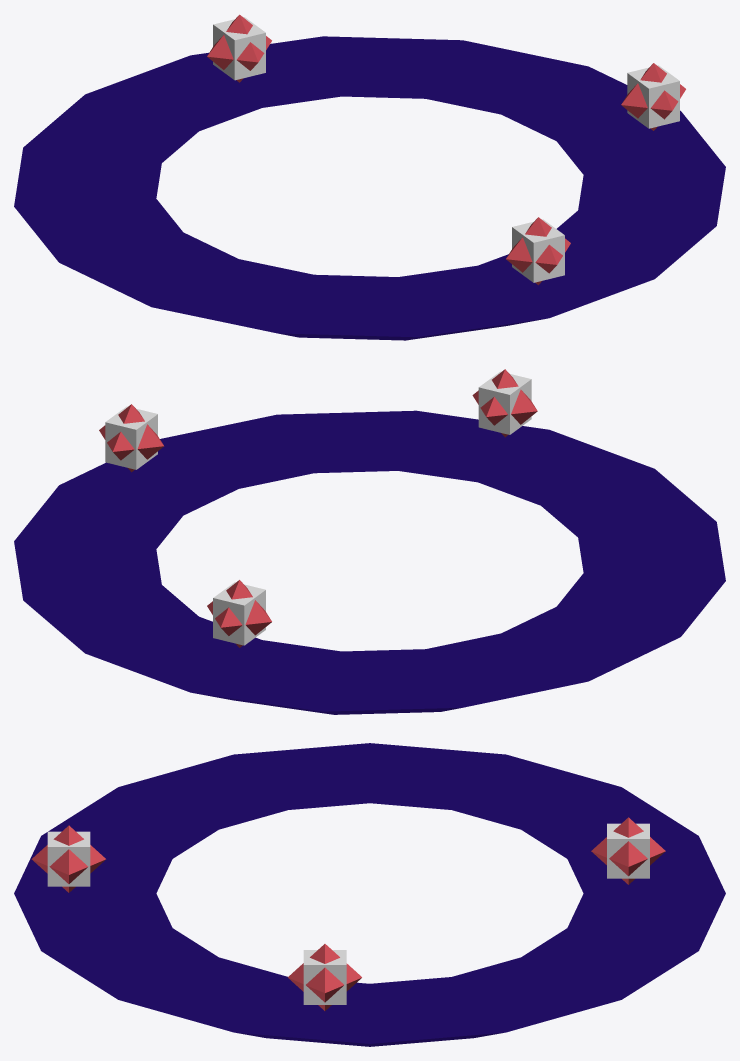
The model's file is Game.gltf.
3 renders of one model, top to bottom at view 1: azimuth 30°, elevation 25°; view 2: azimuth 150°, elevation 25°; view 3: azimuth 270°, elevation 25°, orthographic.
Visible parts, largest first — view 1: Platform, Cube (×3), RubyMesh (×3); view 2: Platform, Cube (×3), RubyMesh (×3); view 3: Platform, RubyMesh (×3), Cube (×3).
Part boxes in pixels (box(x1,y1,x2,y2)): Platform: box(14, 36, 725, 340); Cube (×3): box(213, 17, 679, 282); RubyMesh (×3): box(207, 14, 685, 285); Platform: box(14, 410, 725, 714); Cube (×3): box(105, 371, 531, 645); RubyMesh (×3): box(99, 369, 537, 647); Platform: box(14, 743, 725, 1046); RubyMesh (×3): box(31, 817, 665, 1010); Cube (×3): box(47, 823, 649, 1004).
Size of the model in its own units: 13.11 by 2.33 by 13.11.
